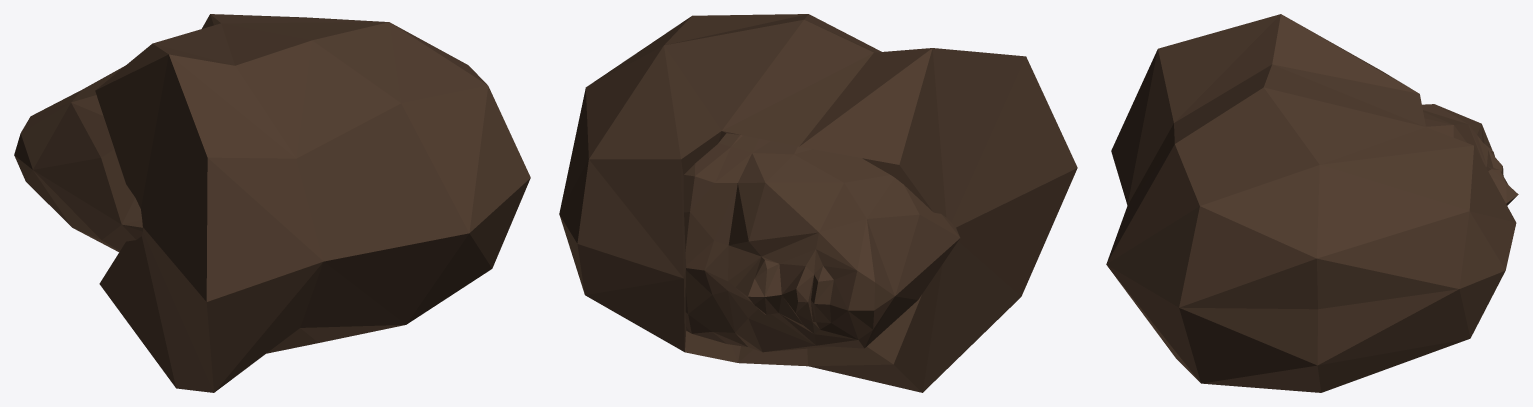
The model's file is HUM_HEAD_BABE2.OBJ.
3 views of the same model, side by side, from view 1: azimuth 30°, elevation 25°; view 2: azimuth 150°, elevation 25°; view 3: azimuth 270°, elevation 25° (orthographic). The views are drawn at different scales.
Parts seen in each view (by area): view 1: HUM_HEAD_BABE2; view 2: HUM_HEAD_BABE2; view 3: HUM_HEAD_BABE2.
Boxes of the visible parts, x1,y1,x2,y2 form: HUM_HEAD_BABE2: (14, 14, 530, 392); HUM_HEAD_BABE2: (559, 14, 1077, 392); HUM_HEAD_BABE2: (1106, 14, 1518, 392).
Size of the model in its own units: 0.278 by 0.24 by 0.2805.
